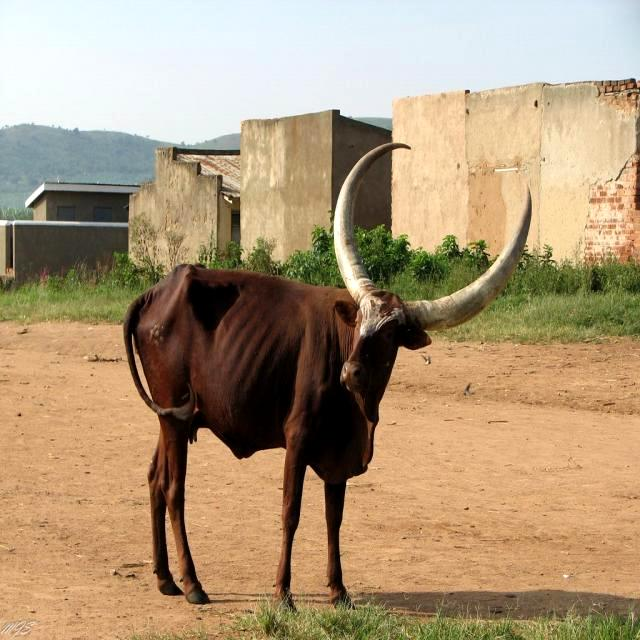COW: (124, 142, 531, 604)
